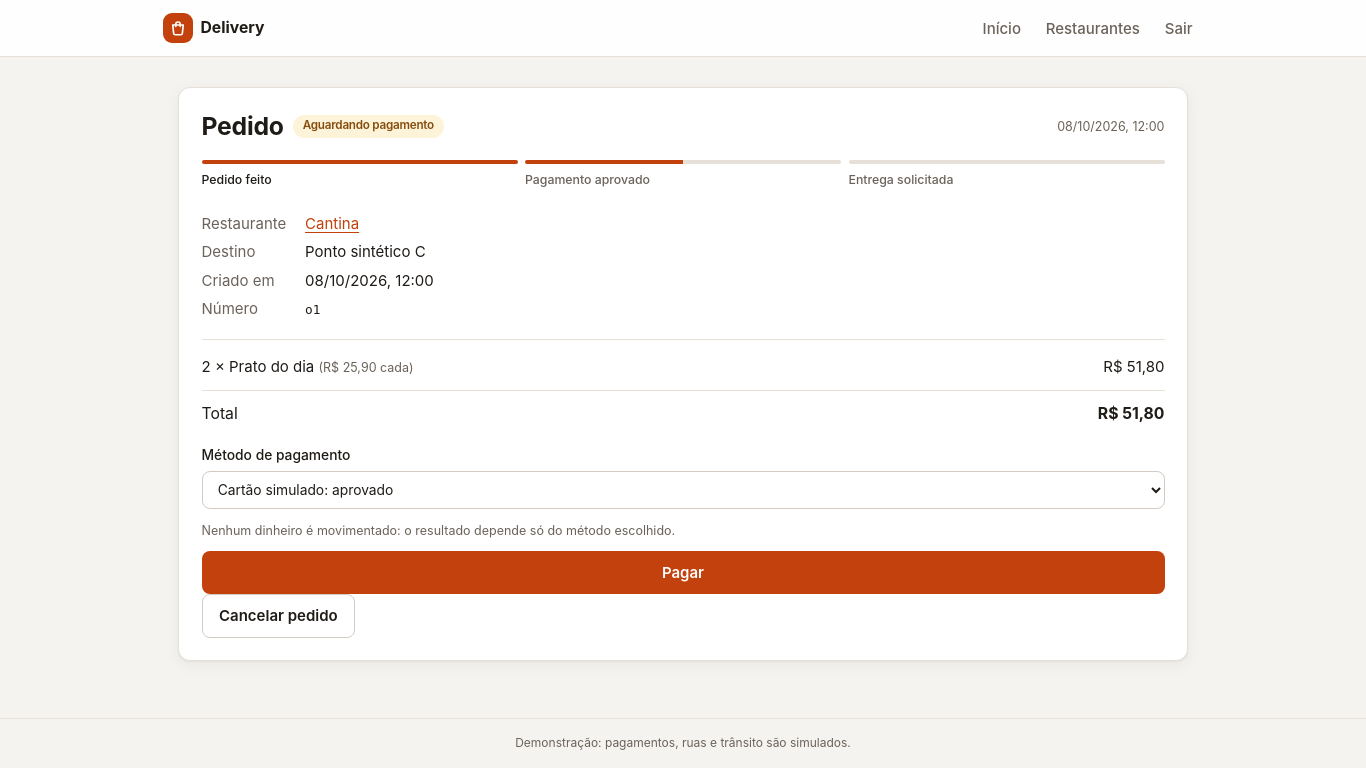
Test case: order payment › cancels an unpaid order
Check: the heading "Pedido Aguardando pagamento" is shown, box top-left (202, 111), bottom-right (444, 142)
Click the button "Cancelar pedido". click: [278, 616]
box: top-left (202, 594), bottom-right (355, 638)
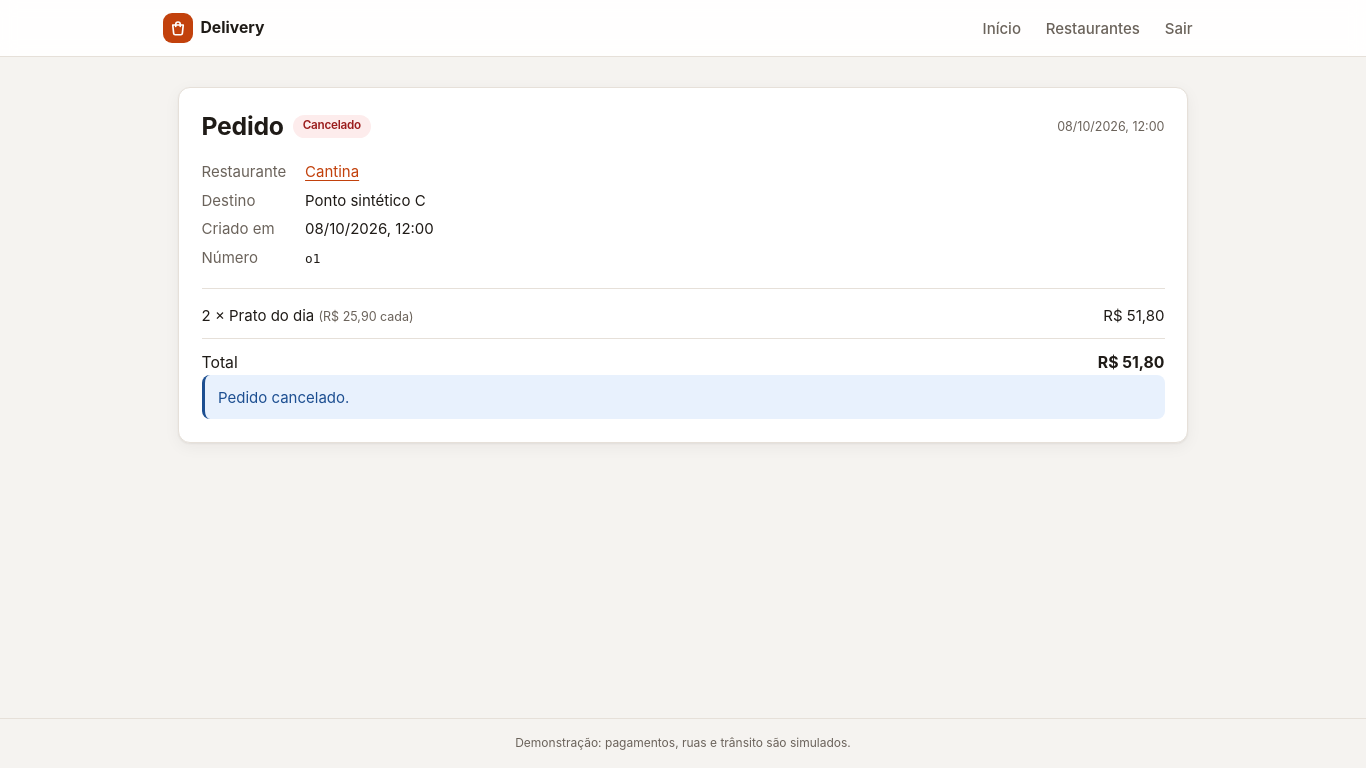
Check: the text "Cancelado" is shown, box top-left (293, 115), bottom-right (371, 138)
Check: the message reads "Pedido cancelado.", box top-left (218, 388), bottom-right (349, 407)
